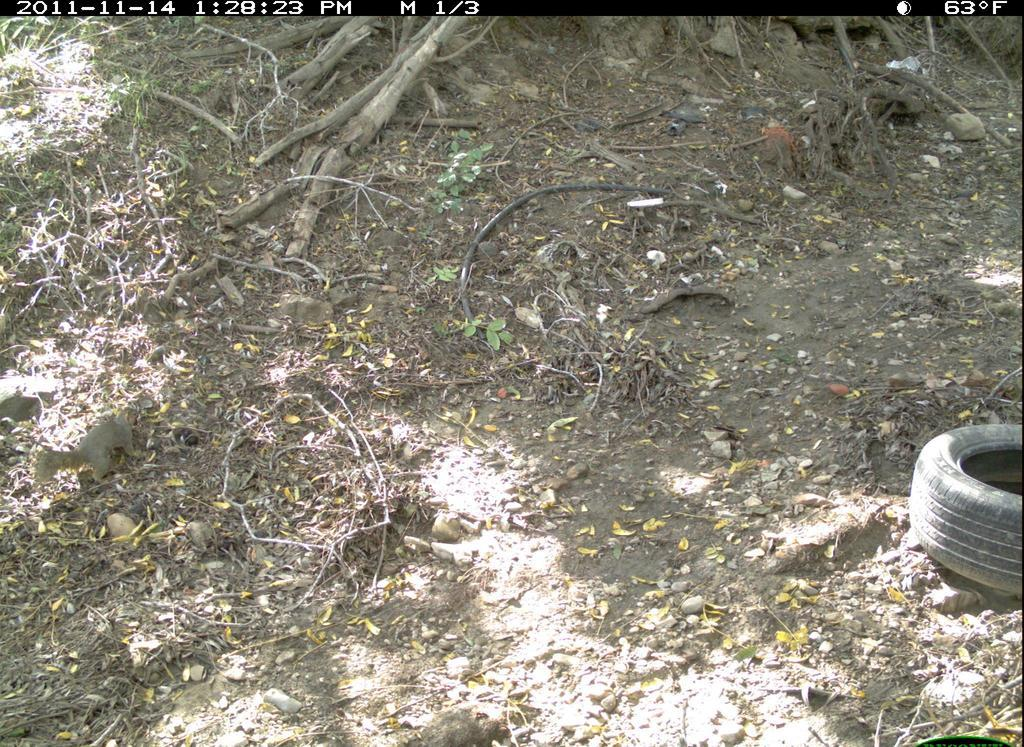squirrel: (33, 405, 154, 497)
